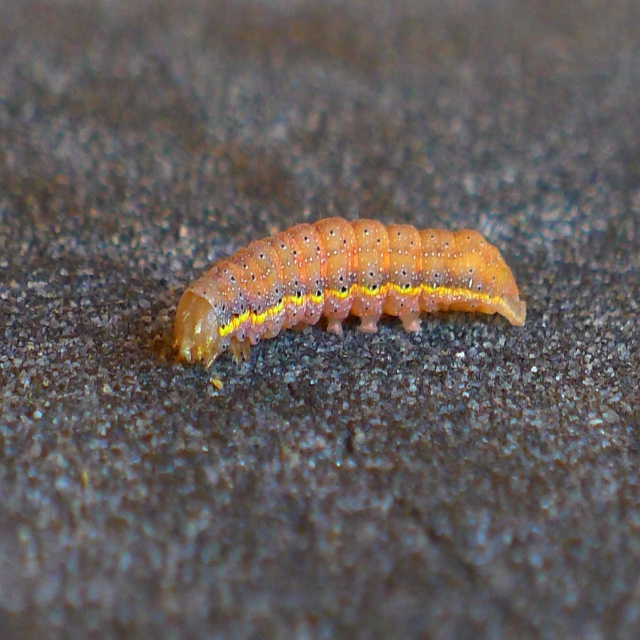Caterpillar: (170, 212, 525, 374)
